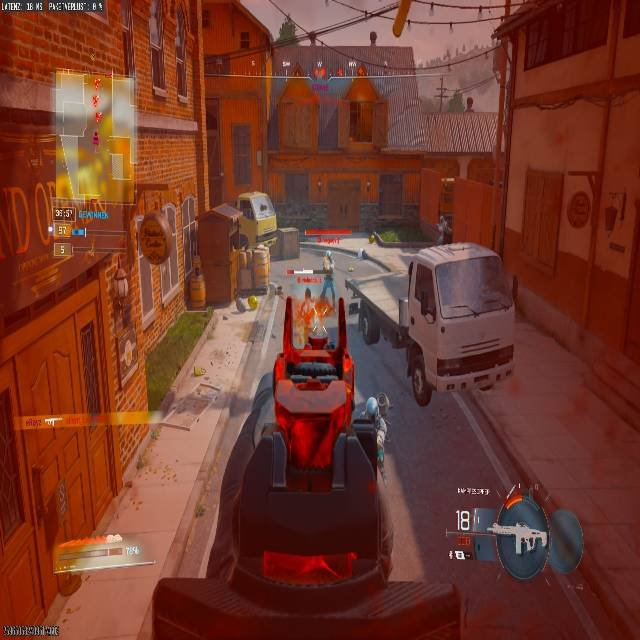head: (440, 215, 445, 223)
player: (434, 215, 451, 244), (323, 250, 334, 272)
